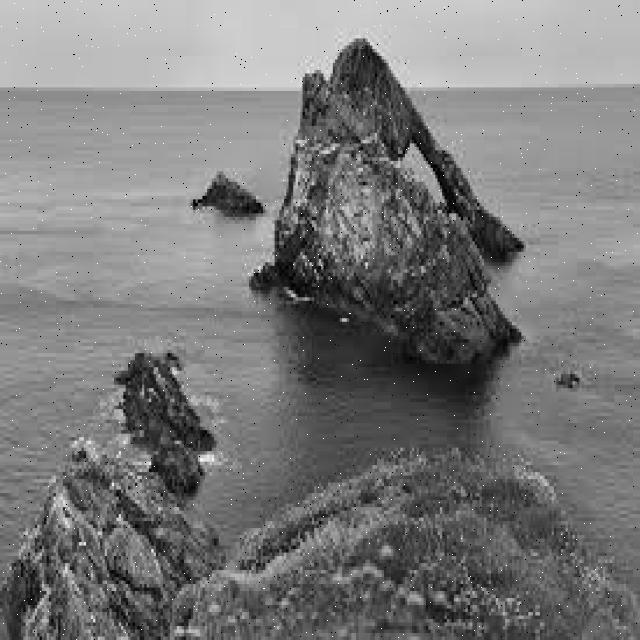Metamorphic: (275, 25, 528, 378), (4, 444, 202, 640)
